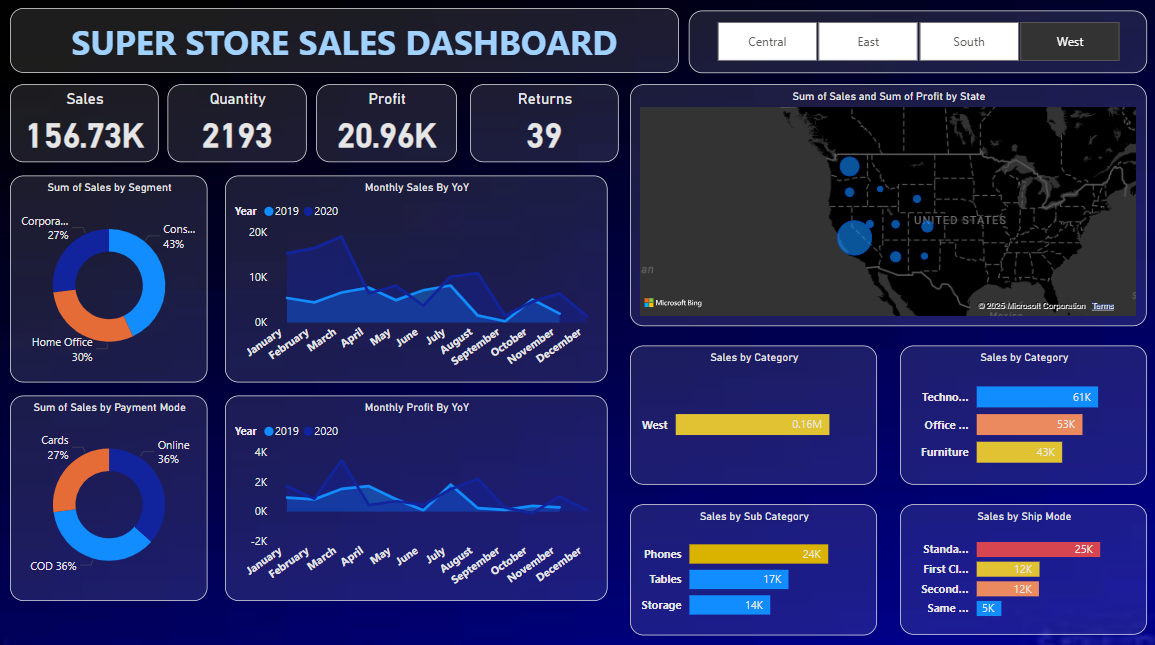

The dashboard page shown, as its layout file describes it:
{"tool":"powerbi","page":{"name":"Page 1","canvas":[1280,720],"ordinal":0},"visuals":[{"type":"clusteredBarChart","title":"Sales by Category","fields":{"Category":["SuperStore_Sales_Dataset.Category"],"Y":["Sum(SuperStore_Sales_Dataset.Sales)"]},"box":[992.9,381.4,271.4,152.9],"z":0},{"type":"clusteredBarChart","title":"Sales by Sub Category","fields":{"Category":["SuperStore_Sales_Dataset.Sub-Category"],"Y":["Sum(SuperStore_Sales_Dataset.Sales)"]},"box":[697.1,555.7,271.4,144.3],"z":1000},{"type":"clusteredBarChart","title":"Sales by Ship Mode","fields":{"Y":["Sum(SuperStore_Sales_Dataset.Sales)"],"Category":["SuperStore_Sales_Dataset.Ship Mode"]},"box":[992.9,555.7,271.4,142.9],"z":2000},{"type":"areaChart","title":"Monthly Sales By YoY","fields":{"Y":["Sum(SuperStore_Sales_Dataset.Sales)"],"Series":["SuperStore_Sales_Dataset.Order Date.Variation.Date Hierarchy.Year"],"Category":["SuperStore_Sales_Dataset.Order Date.Variation.Date Hierarchy.Month","SuperStore_Sales_Dataset.Order Date.Variation.Date Hierarchy.Day"]},"box":[252.9,194.3,420,227.1],"z":3000},{"type":"areaChart","title":"Monthly Profit By YoY","fields":{"Series":["SuperStore_Sales_Dataset.Order Date.Variation.Date Hierarchy.Year"],"Category":["SuperStore_Sales_Dataset.Order Date.Variation.Date Hierarchy.Month","SuperStore_Sales_Dataset.Order Date.Variation.Date Hierarchy.Day"],"Y":["Sum(SuperStore_Sales_Dataset.Profit)"]},"box":[252.9,435.7,420,225.7],"z":4000},{"type":"map","fields":{"Category":["SuperStore_Sales_Dataset.State"],"Size":["Sum(SuperStore_Sales_Dataset.Sales)"]},"box":[697.1,94.3,567.1,265.7],"z":5000},{"type":"donutChart","fields":{"Category":["SuperStore_Sales_Dataset.Segment"],"Y":["Sum(SuperStore_Sales_Dataset.Sales)"]},"box":[17.1,194.3,217.1,227.1],"z":6000},{"type":"donutChart","fields":{"Y":["Sum(SuperStore_Sales_Dataset.Sales)"],"Category":["SuperStore_Sales_Dataset.Payment Mode"]},"box":[17.1,435.7,217.1,225.7],"z":7000},{"type":"slicer","fields":{"Values":["SuperStore_Sales_Dataset.Region"]},"box":[761.4,14.3,502.9,68.6],"z":8000},{"type":"textbox","box":[17.1,11.4,734.3,71.4],"z":9000},{"type":"card","title":"Sales","fields":{"Values":["Sum(SuperStore_Sales_Dataset.Sales)"]},"box":[17.1,94.3,162.9,85.7],"z":9001},{"type":"card","title":"Quantity","fields":{"Values":["Sum(SuperStore_Sales_Dataset.Quantity)"]},"box":[190,94.3,152.9,85.7],"z":9002},{"type":"card","title":"Profit","fields":{"Values":["Sum(SuperStore_Sales_Dataset.Profit)"]},"box":[352.9,94.3,154.3,85.7],"z":9003},{"type":"clusteredBarChart","title":"Sales by Category","fields":{"Y":["Sum(SuperStore_Sales_Dataset.Sales)"],"Category":["SuperStore_Sales_Dataset.Region"]},"box":[697.1,381.4,271.4,152.9],"z":9004},{"type":"card","title":"Returns","fields":{"Values":["Sum(SuperStore_Sales_Dataset.Returns)"]},"box":[521.4,94.3,162.9,85.7],"z":9005}]}

Visuals, with their boxes in screenshot pixels (x1, y1, x2, y2), scaled from the page's 1280x720 canvas onto the 1155x645 screenshot:
"Sales by Category" clusteredBarChart: left=896, top=342, right=1141, bottom=479
"Sales by Sub Category" clusteredBarChart: left=629, top=498, right=874, bottom=627
"Sales by Ship Mode" clusteredBarChart: left=896, top=498, right=1141, bottom=626
"Monthly Sales By YoY" areaChart: left=228, top=174, right=607, bottom=378
"Monthly Profit By YoY" areaChart: left=228, top=390, right=607, bottom=593
map - SuperStore_Sales_Dataset.State x Sum(SuperStore_Sales_Dataset.Sales): left=629, top=84, right=1141, bottom=322
donutChart - SuperStore_Sales_Dataset.Segment x Sum(SuperStore_Sales_Dataset.Sales): left=15, top=174, right=211, bottom=378
donutChart - Sum(SuperStore_Sales_Dataset.Sales) x SuperStore_Sales_Dataset.Payment Mode: left=15, top=390, right=211, bottom=593
slicer - SuperStore_Sales_Dataset.Region: left=687, top=13, right=1141, bottom=74
textbox: left=15, top=10, right=678, bottom=74
"Sales" card: left=15, top=84, right=162, bottom=161
"Quantity" card: left=171, top=84, right=309, bottom=161
"Profit" card: left=318, top=84, right=458, bottom=161
"Sales by Category" clusteredBarChart: left=629, top=342, right=874, bottom=479
"Returns" card: left=470, top=84, right=617, bottom=161
